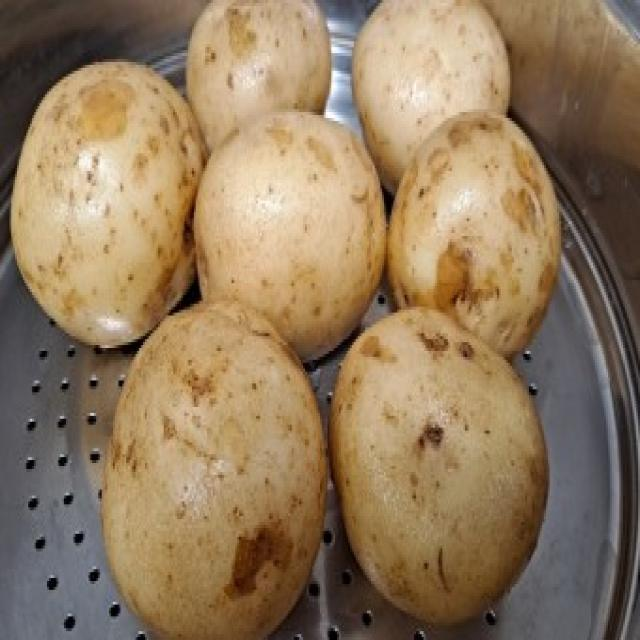potato: (101, 297, 333, 640), (337, 292, 550, 626), (9, 56, 203, 352), (194, 108, 388, 367), (386, 106, 562, 358), (351, 0, 516, 198), (178, 0, 333, 160)
